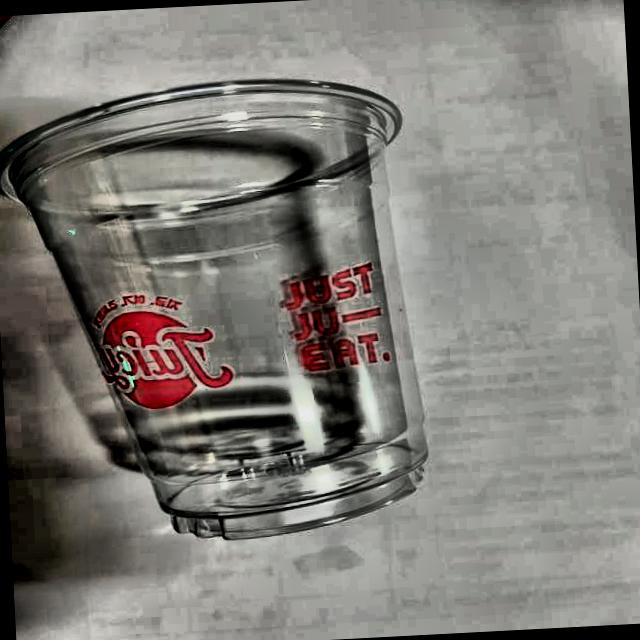plastic cup: (0, 62, 433, 555)
